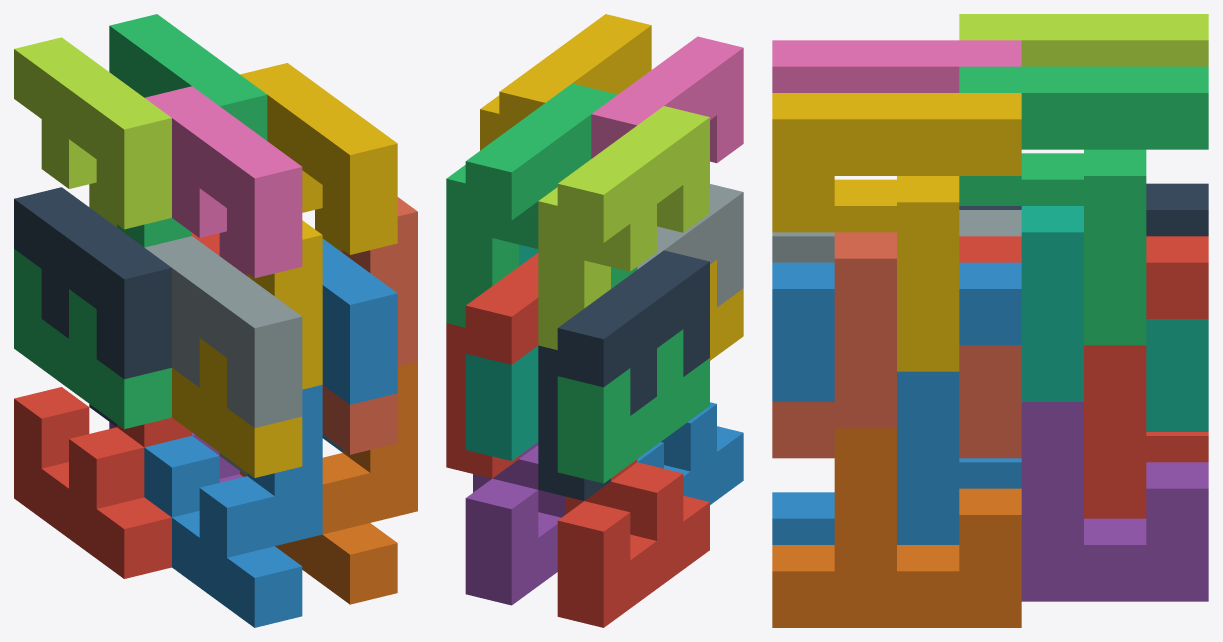
File: tiling.obj
3 views of the same model, side by side, from view 1: azimuth 30°, elevation 25°; view 2: azimuth 150°, elevation 25°; view 3: azimuth 270°, elevation 25° (orthographic). The views are drawn at different scales.
Visible parts, largest first — view 1: copy_1_domain_2, copy_1_domain_1, copy_2_domain_3, copy_2_domain_1, copy_2_domain_4, copy_2_domain_2, copy_2_domain_8, copy_1_domain_6, copy_1_domain_4, copy_1_domain_3, copy_2_domain_6, copy_2_domain_7 (+1 smaller); view 2: copy_2_domain_3, copy_2_domain_1, copy_2_domain_7, copy_1_domain_1, copy_1_domain_3, copy_1_domain_5, copy_2_domain_4, copy_2_domain_5, copy_2_domain_8, copy_1_domain_7, copy_1_domain_2, copy_2_domain_2 (+1 smaller); view 3: copy_2_domain_8, copy_1_domain_6, copy_2_domain_7, copy_1_domain_5, copy_2_domain_6, copy_1_domain_8, copy_1_domain_7, copy_2_domain_5, copy_2_domain_3, copy_2_domain_4, copy_1_domain_2, copy_2_domain_1 (+4 smaller).
Part boxes in pixels (<box>): copy_1_domain_2: <box>144,385,322,627</box>; copy_1_domain_1: <box>14,387,191,578</box>; copy_2_domain_3: <box>14,37,171,229</box>; copy_2_domain_1: <box>14,187,171,426</box>; copy_2_domain_4: <box>144,86,302,278</box>; copy_2_domain_2: <box>145,236,302,475</box>; copy_2_domain_8: <box>240,63,397,254</box>; copy_1_domain_6: <box>240,361,417,604</box>; copy_1_domain_4: <box>172,220,322,477</box>; copy_1_domain_3: <box>14,218,191,429</box>; copy_2_domain_6: <box>322,239,397,452</box>; copy_2_domain_7: <box>109,14,267,140</box>; copy_2_domain_3: <box>538,106,709,349</box>; copy_2_domain_1: <box>538,250,709,500</box>; copy_2_domain_7: <box>446,83,617,327</box>; copy_1_domain_1: <box>557,459,709,627</box>; copy_1_domain_3: <box>557,267,709,483</box>; copy_1_domain_5: <box>465,442,564,605</box>; copy_2_domain_4: <box>591,36,743,163</box>; copy_2_domain_5: <box>446,253,538,478</box>; copy_2_domain_8: <box>480,14,651,150</box>; copy_1_domain_7: <box>465,244,538,460</box>; copy_1_domain_2: <box>637,402,743,504</box>; copy_2_domain_2: <box>637,184,743,307</box>; copy_2_domain_8: <box>772,93,1021,371</box>; copy_1_domain_6: <box>772,428,1021,627</box>; copy_2_domain_7: <box>959,66,1208,345</box>; copy_1_domain_5: <box>1021,402,1208,601</box>; copy_2_domain_6: <box>772,262,1021,541</box>; copy_1_domain_8: <box>772,232,1021,458</box>; copy_1_domain_7: <box>1021,206,1208,431</box>; copy_2_domain_5: <box>959,236,1208,514</box>; copy_2_domain_3: <box>959,14,1208,66</box>; copy_2_domain_4: <box>772,40,1021,92</box>; copy_1_domain_2: <box>772,458,1021,544</box>; copy_2_domain_1: <box>959,183,1208,236</box>.
Size of the model in its own units: 5 by 9 by 7.
